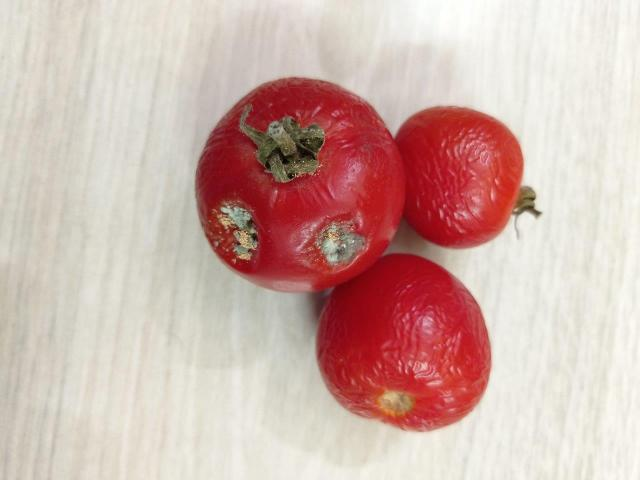defect: (188, 73, 407, 294), (315, 251, 496, 436), (394, 104, 536, 252)
